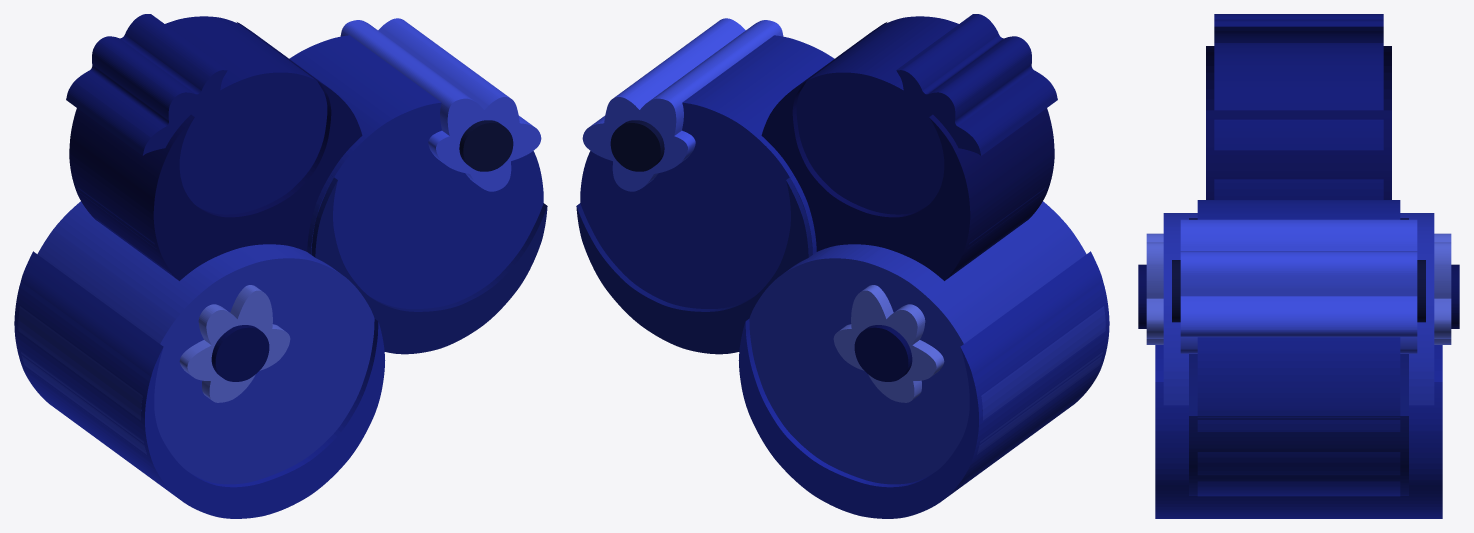
Rendered from U+1FAD0.obj.
3 renders of one model, left to right at view 1: azimuth 30°, elevation 25°; view 2: azimuth 150°, elevation 25°; view 3: azimuth 270°, elevation 25°, orthographic. The views are drawn at different scales.
Parts seen in each view (by area): view 1: U+1FAD0_layer06_obj00, U+1FAD0_layer02_obj00, U+1FAD0_layer07_obj00, U+1FAD0_layer01_obj00, U+1FAD0_layer00_obj01, U+1FAD0_layer00_obj00, U+1FAD0_layer04_obj00, U+1FAD0_layer03_obj00, U+1FAD0_layer08_obj00, U+1FAD0_layer09_obj00, U+1FAD0_layer05_obj00; view 2: U+1FAD0_layer06_obj00, U+1FAD0_layer02_obj00, U+1FAD0_layer07_obj00, U+1FAD0_layer01_obj00, U+1FAD0_layer00_obj01, U+1FAD0_layer00_obj00, U+1FAD0_layer04_obj00, U+1FAD0_layer03_obj00, U+1FAD0_layer08_obj00, U+1FAD0_layer09_obj00, U+1FAD0_layer05_obj00; view 3: U+1FAD0_layer02_obj00, U+1FAD0_layer04_obj00, U+1FAD0_layer00_obj01, U+1FAD0_layer07_obj00, U+1FAD0_layer01_obj00, U+1FAD0_layer03_obj00, U+1FAD0_layer06_obj00, U+1FAD0_layer00_obj00, U+1FAD0_layer08_obj00, U+1FAD0_layer09_obj00, U+1FAD0_layer05_obj00.
Part boxes in pixels (bbox=[...]): U+1FAD0_layer06_obj00: bbox=[18, 201, 374, 484]; U+1FAD0_layer02_obj00: bbox=[289, 35, 543, 308]; U+1FAD0_layer07_obj00: bbox=[14, 251, 385, 518]; U+1FAD0_layer01_obj00: bbox=[69, 22, 362, 280]; U+1FAD0_layer00_obj01: bbox=[78, 16, 330, 277]; U+1FAD0_layer00_obj00: bbox=[66, 14, 227, 155]; U+1FAD0_layer04_obj00: bbox=[340, 18, 541, 191]; U+1FAD0_layer03_obj00: bbox=[311, 175, 547, 354]; U+1FAD0_layer08_obj00: bbox=[179, 285, 290, 402]; U+1FAD0_layer09_obj00: bbox=[211, 325, 269, 381]; U+1FAD0_layer05_obj00: bbox=[459, 120, 513, 171]; U+1FAD0_layer06_obj00: bbox=[749, 201, 1105, 484]; U+1FAD0_layer02_obj00: bbox=[580, 35, 834, 308]; U+1FAD0_layer07_obj00: bbox=[738, 251, 1109, 518]; U+1FAD0_layer01_obj00: bbox=[761, 22, 1054, 280]; U+1FAD0_layer00_obj01: bbox=[793, 16, 1045, 277]; U+1FAD0_layer00_obj00: bbox=[896, 14, 1057, 155]; U+1FAD0_layer04_obj00: bbox=[582, 18, 783, 191]; U+1FAD0_layer03_obj00: bbox=[576, 175, 812, 354]; U+1FAD0_layer08_obj00: bbox=[833, 285, 944, 402]; U+1FAD0_layer09_obj00: bbox=[854, 325, 912, 381]; U+1FAD0_layer05_obj00: bbox=[610, 120, 664, 171]; U+1FAD0_layer02_obj00: bbox=[1197, 200, 1400, 496]; U+1FAD0_layer04_obj00: bbox=[1180, 219, 1417, 353]; U+1FAD0_layer00_obj01: bbox=[1214, 43, 1383, 199]; U+1FAD0_layer07_obj00: bbox=[1155, 345, 1442, 518]; U+1FAD0_layer01_obj00: bbox=[1206, 46, 1391, 199]; U+1FAD0_layer03_obj00: bbox=[1189, 218, 1408, 495]; U+1FAD0_layer06_obj00: bbox=[1163, 213, 1434, 405]; U+1FAD0_layer00_obj00: bbox=[1214, 14, 1383, 42]; U+1FAD0_layer08_obj00: bbox=[1146, 233, 1451, 344]; U+1FAD0_layer09_obj00: bbox=[1138, 264, 1459, 328]; U+1FAD0_layer05_obj00: bbox=[1172, 260, 1425, 322].
Size of the model in its own units: 0.3148 by 0.3092 by 0.19.
